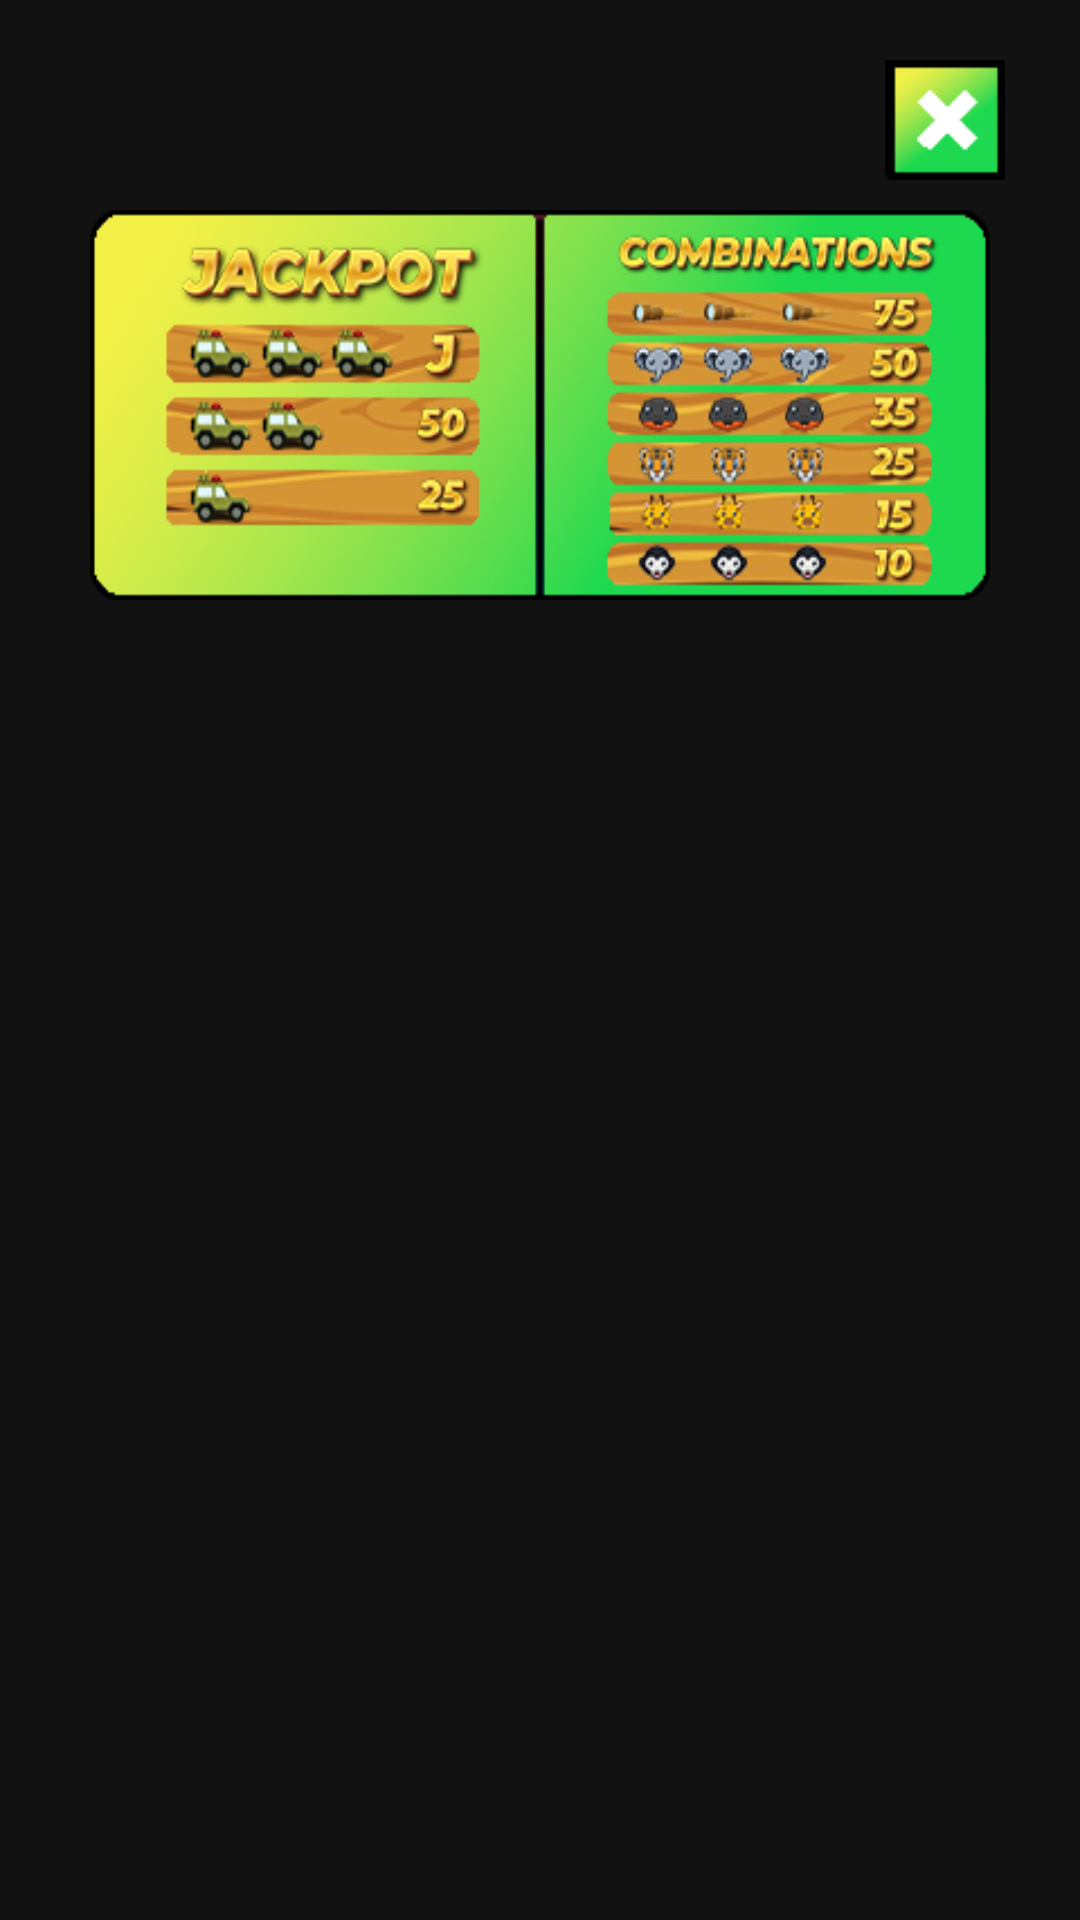

Icon click points for this 1080w x 1920h phone screenshot, format point (x, y):
close: point (946, 120)
